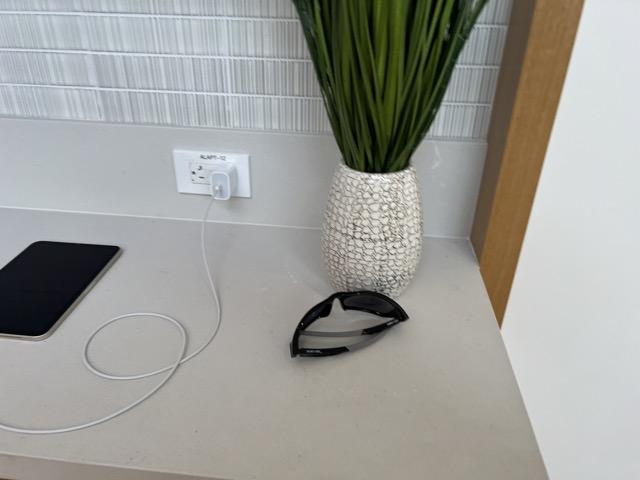Sunglasses: (289, 287, 410, 360)
